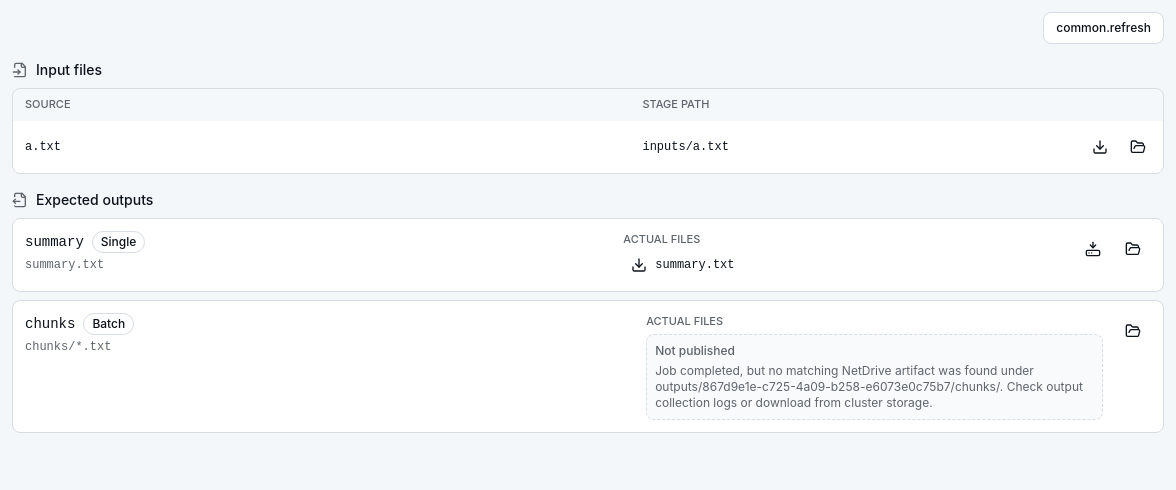
hides stale output links after a failed refresh, then retries
Expected: the button with test id "job-file-output-download-cloud-summary-output" is shown, 623,251 -> 1063,279
Click the button with test id "job-files-refresh": (1104, 28) 1043,12 -> 1164,44
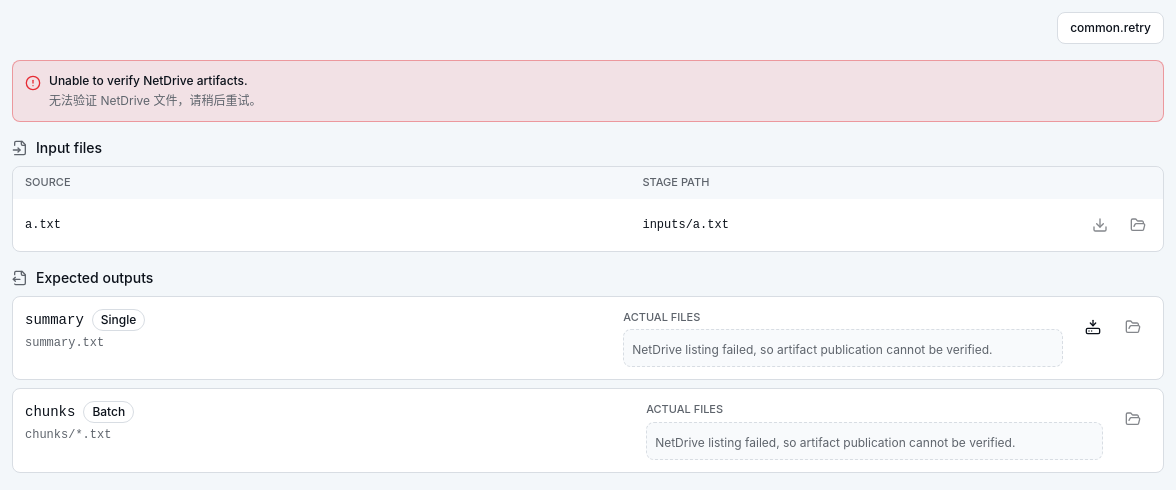
Now the message "Unable to verify NetDrive artifacts. 无法验证 NetDrive 文件，请稍后重试。" is shown, box 12,60 -> 1164,122
Now the button with test id "job-file-output-download-cloud-summary-output" is gone
Now the text "Not published" is gone
Click the button with test id "job-files-refresh": (1111, 28) 1057,12 -> 1164,44
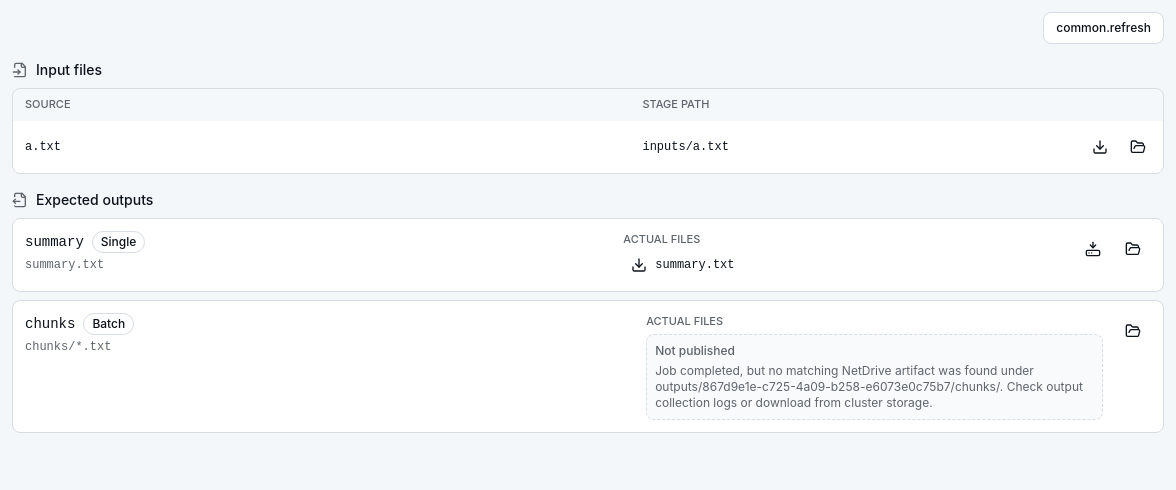
Now the button with test id "job-file-output-download-cloud-summary-output" is shown, box 623,251 -> 1063,279
